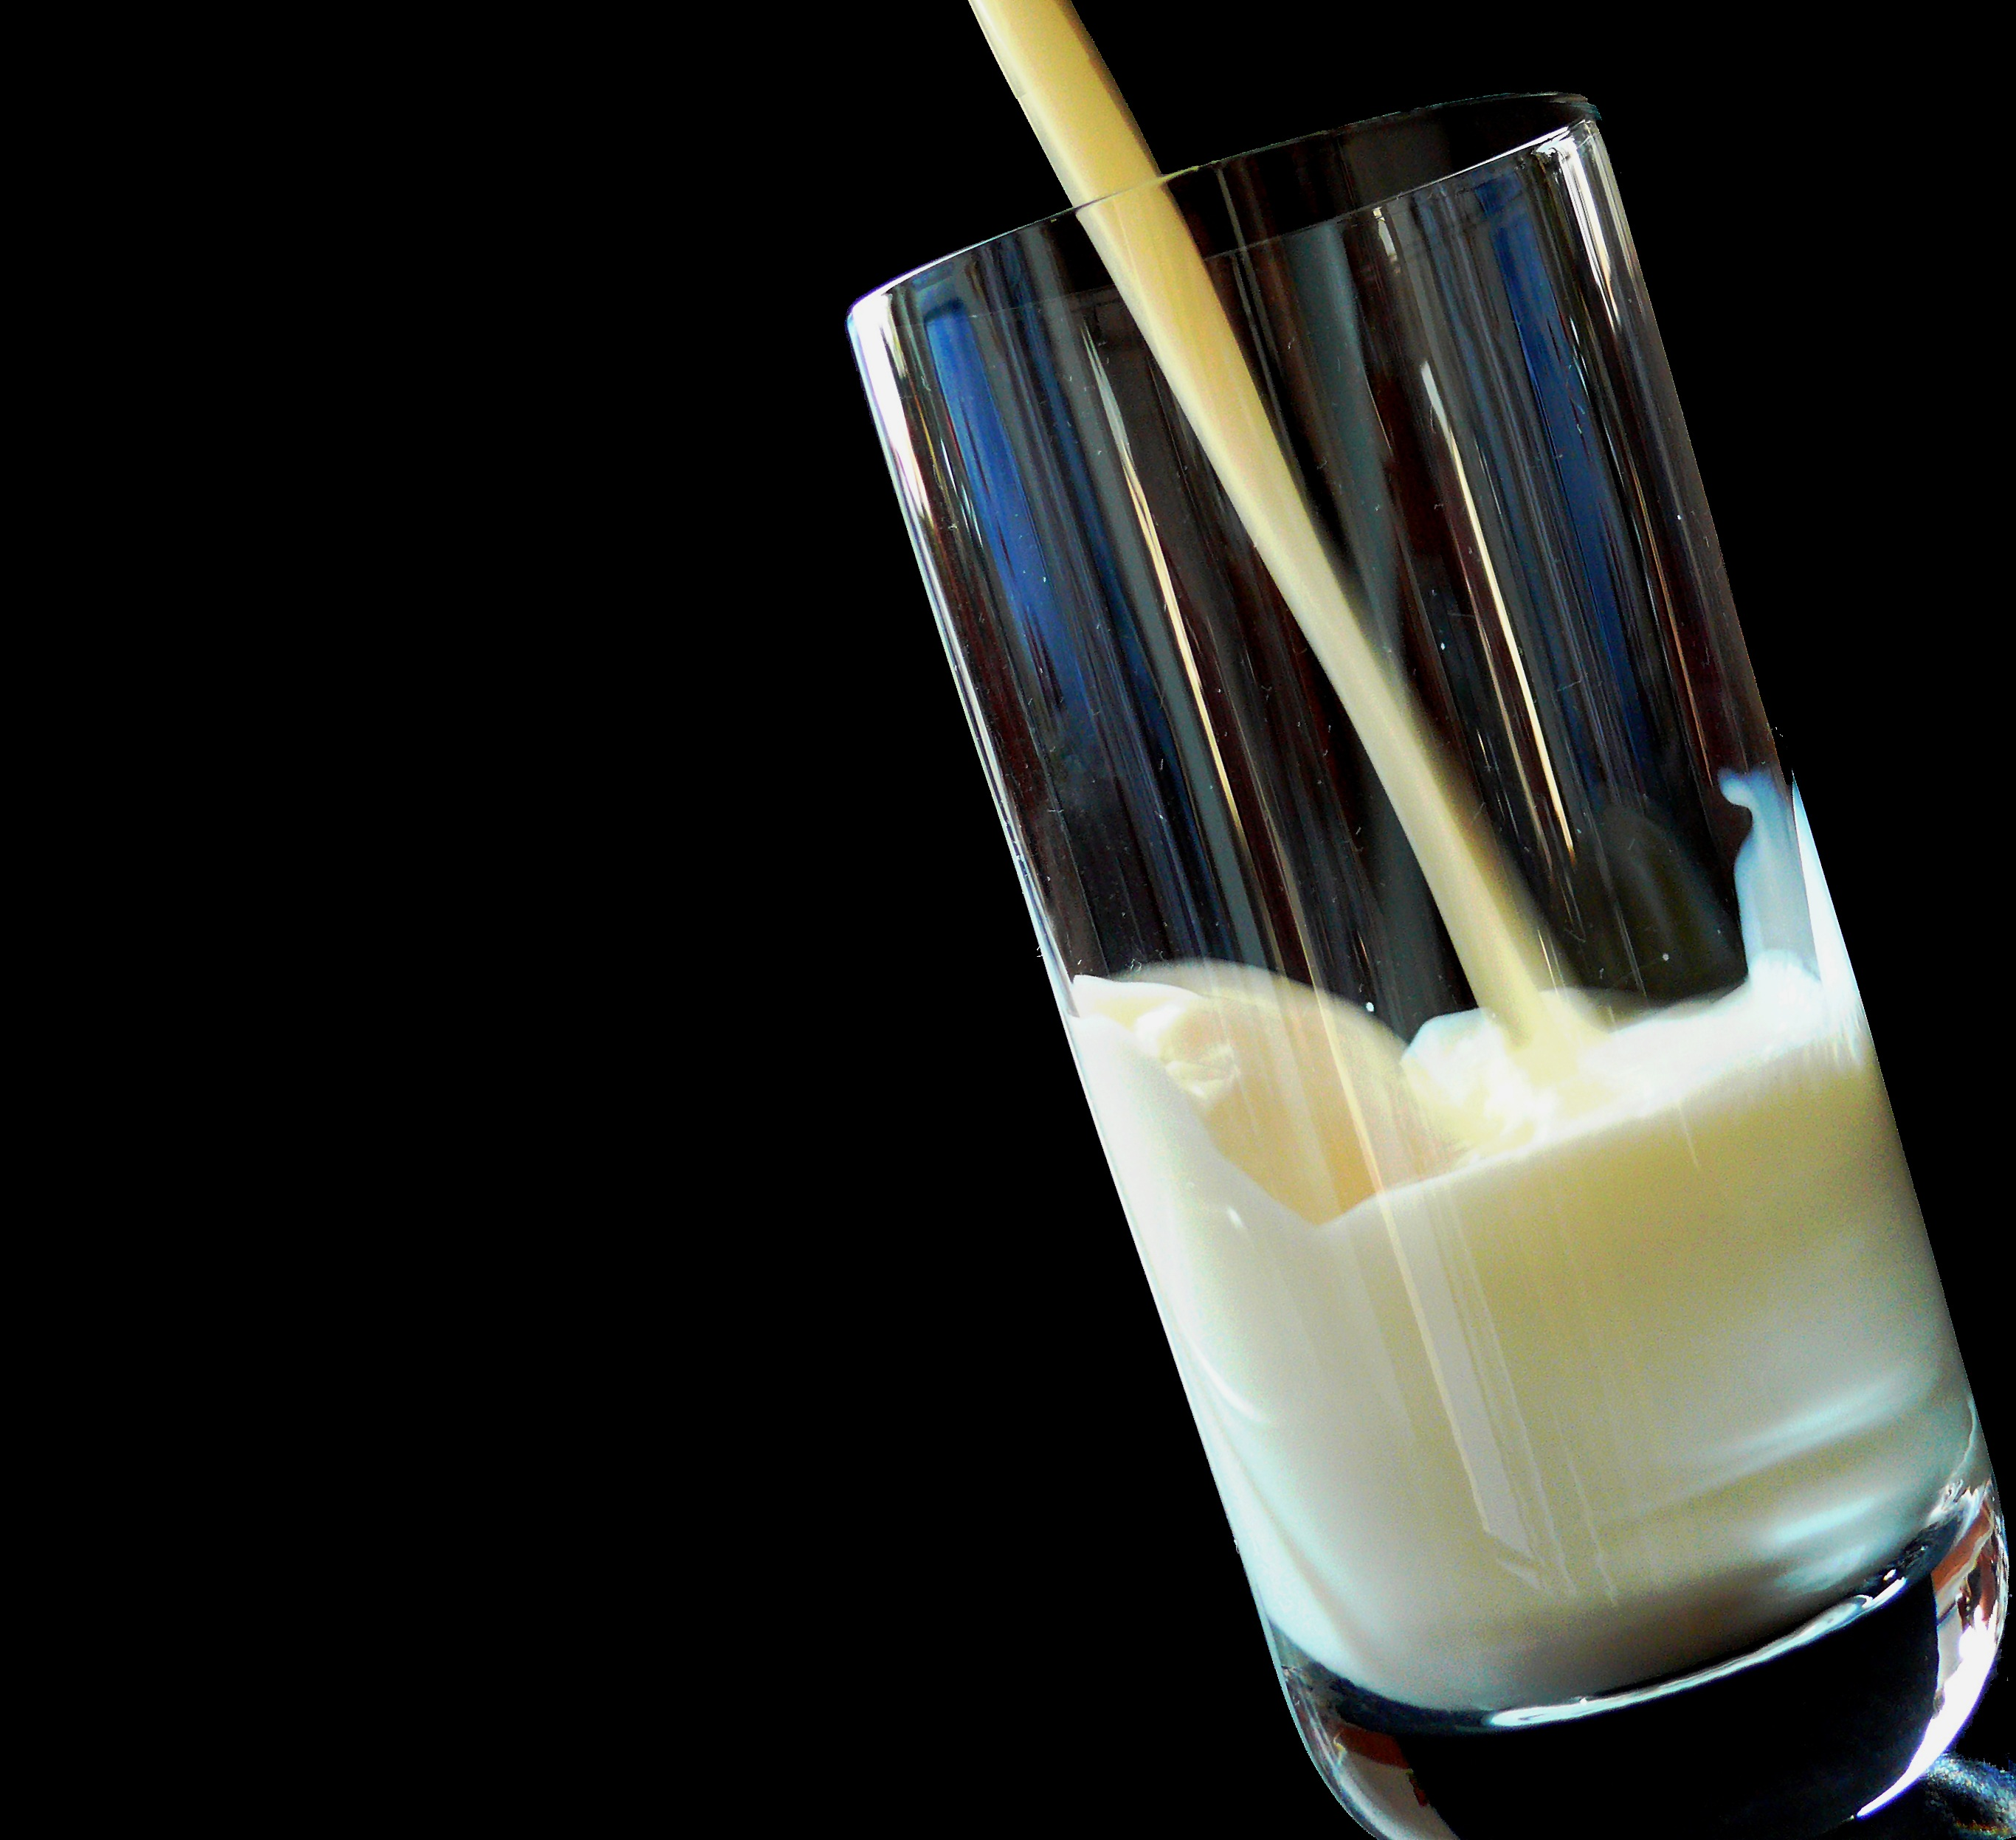glass of milk: (982, 325, 1914, 1747)
